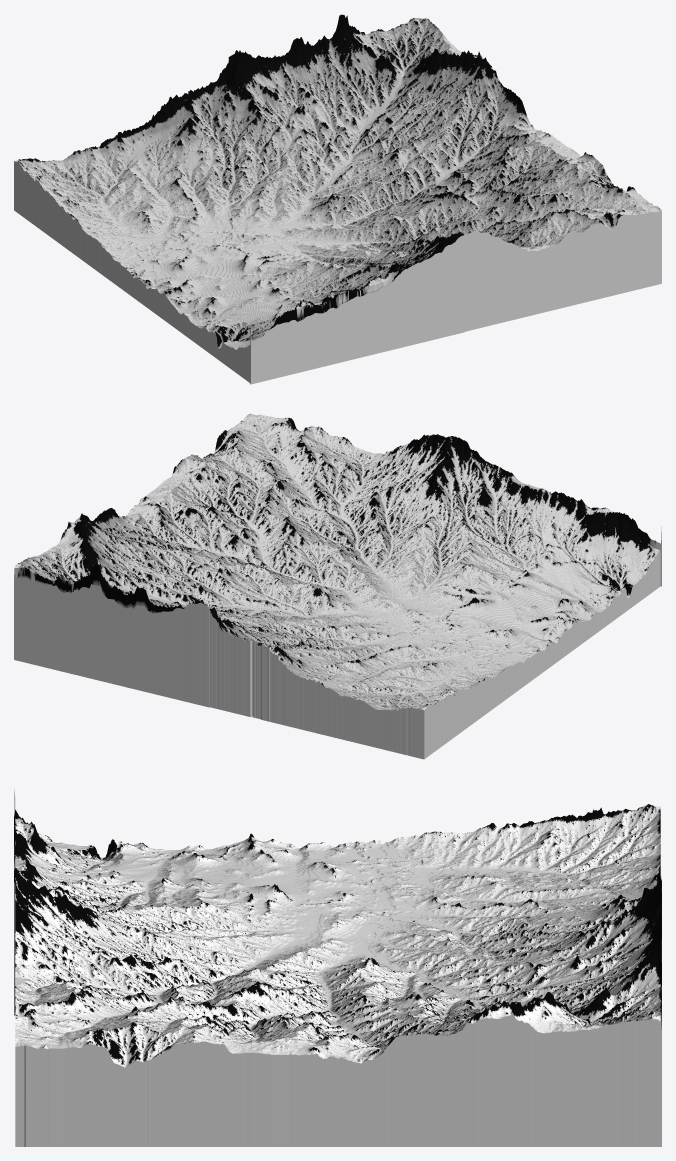
File: LowPoly.fbx
The picture shows the model from 3 angles, top to bottom: view 1: azimuth 30°, elevation 25°; view 2: azimuth 150°, elevation 25°; view 3: azimuth 270°, elevation 25°; orthographic projection. The views are drawn at different scales.
Parts seen in each view (by area): view 1: Plane; view 2: Plane; view 3: Plane.
Part boxes in pixels (x1,y1,x2,y2): Plane: [14, 14, 661, 384]; Plane: [14, 413, 661, 759]; Plane: [14, 789, 661, 1146].
Bounding box in the file's own units: 873 × 235 × 875.
2 materials, 1 textured.
